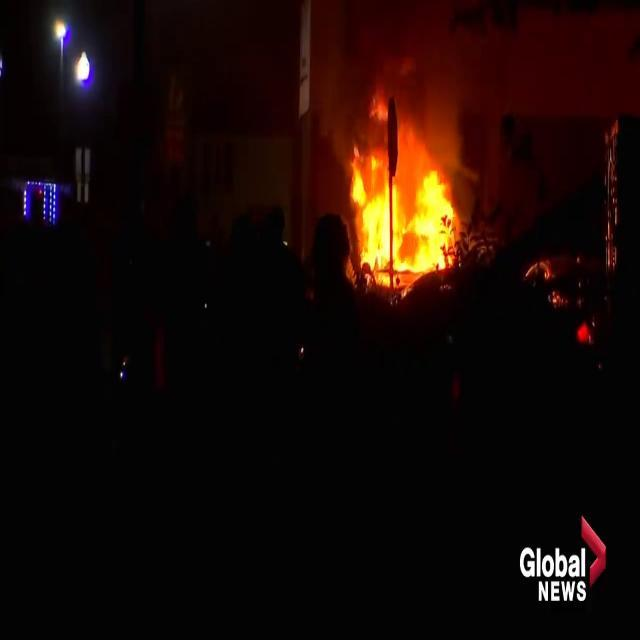Fire: (342, 101, 468, 289)
